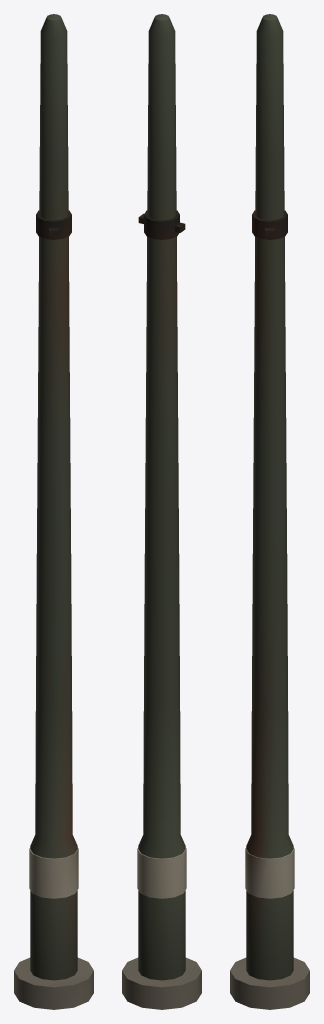
Rendered from poste_tendido.glb.
3 renders of one model, left to right at view 1: azimuth 90°, elevation 25°; view 2: azimuth 150°, elevation 25°; view 3: azimuth 270°, elevation 25°, orthographic.
Visible parts, largest first — view 1: poste_tendido.001; view 2: poste_tendido.001; view 3: poste_tendido.001.
Boxes of the visible parts, x1,y1,x2,y2 form: poste_tendido.001: [14, 14, 93, 1009]; poste_tendido.001: [122, 14, 201, 1009]; poste_tendido.001: [230, 14, 309, 1009].
Size of the model in its own units: 0.64 by 8.65 by 0.64.
